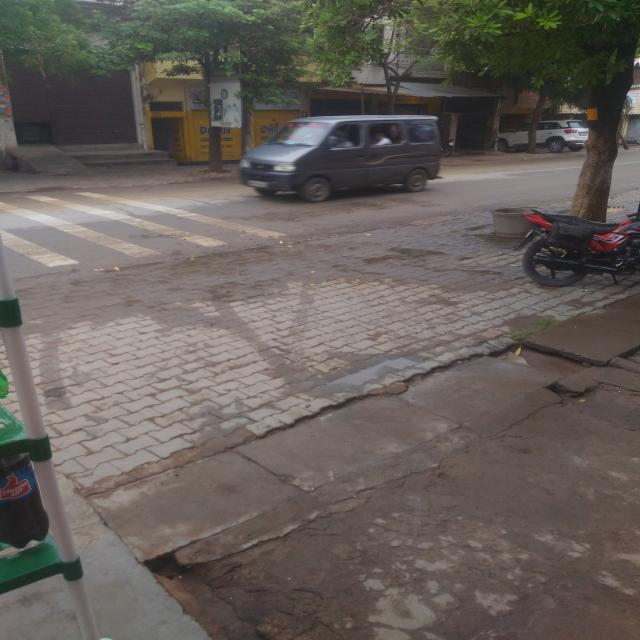Car: (230, 109, 444, 208)
